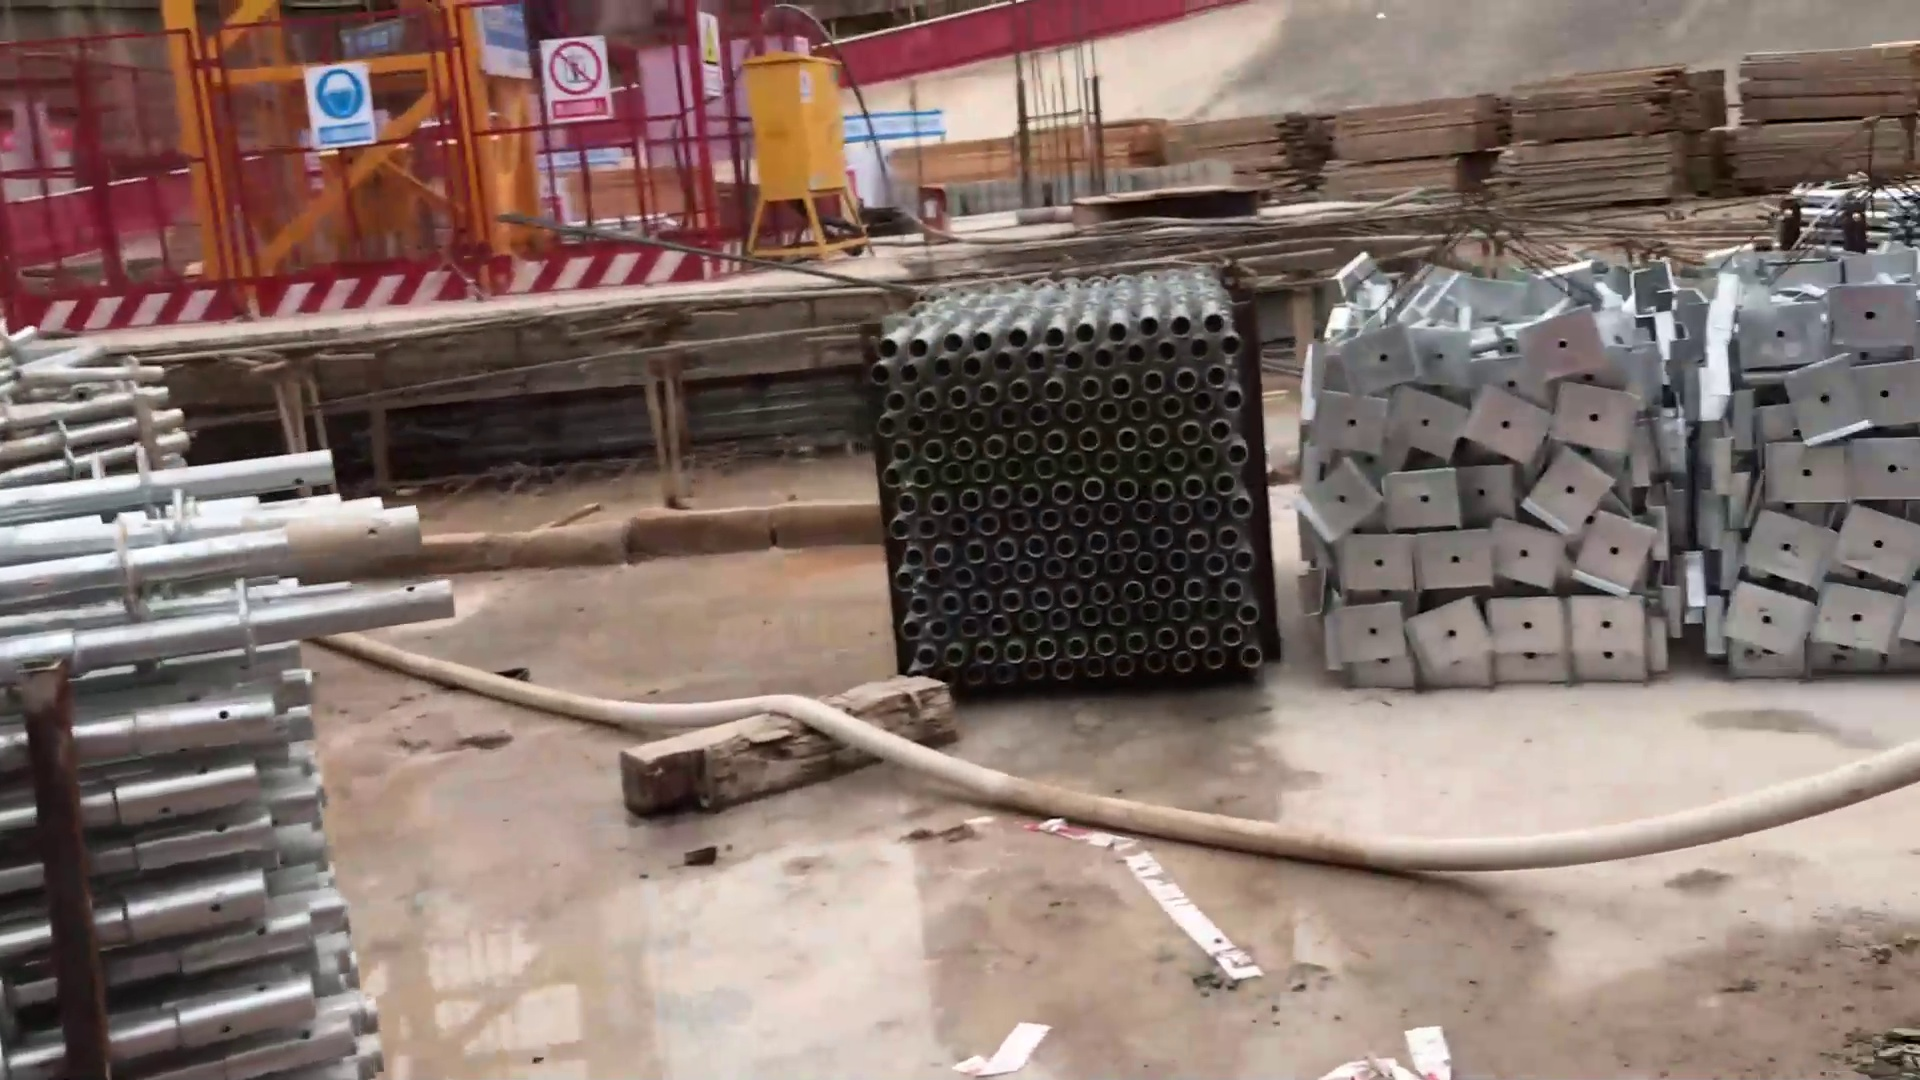ebox: (742, 44, 877, 266)
fence: (455, 1, 731, 316)
scaffold: (11, 331, 443, 1080), (860, 268, 1280, 687), (1302, 261, 1685, 700), (1712, 256, 1920, 678)
slogan: (529, 26, 629, 127), (295, 51, 384, 160), (691, 11, 733, 105)
wood: (1501, 57, 1735, 227), (1727, 26, 1920, 187), (1329, 87, 1493, 214), (1162, 112, 1328, 194)
